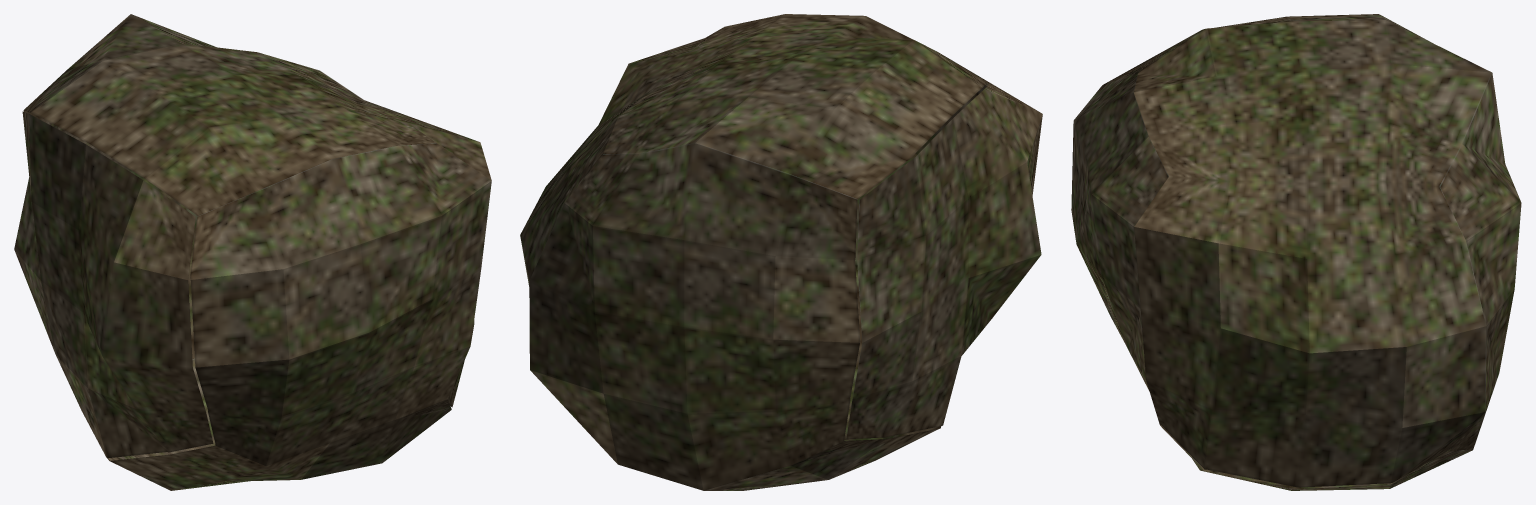
The model's file is SM_EC_Rock_85.fbx.
3 renders of one model, left to right at view 1: azimuth 30°, elevation 25°; view 2: azimuth 150°, elevation 25°; view 3: azimuth 270°, elevation 25°, orthographic. The views are drawn at different scales.
Parts seen in each view (by area): view 1: SM_EC_Rock_85; view 2: SM_EC_Rock_85; view 3: SM_EC_Rock_85.
Part boxes in pixels (box(x1,y1,x2,y2)): SM_EC_Rock_85: box(14, 14, 491, 490); SM_EC_Rock_85: box(520, 14, 1042, 490); SM_EC_Rock_85: box(1071, 14, 1521, 490).
Size of the model in its own units: 1.17 by 1.1 by 1.06.
